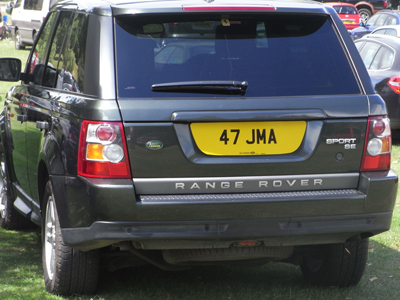licencePlate: (192, 121, 308, 156)
